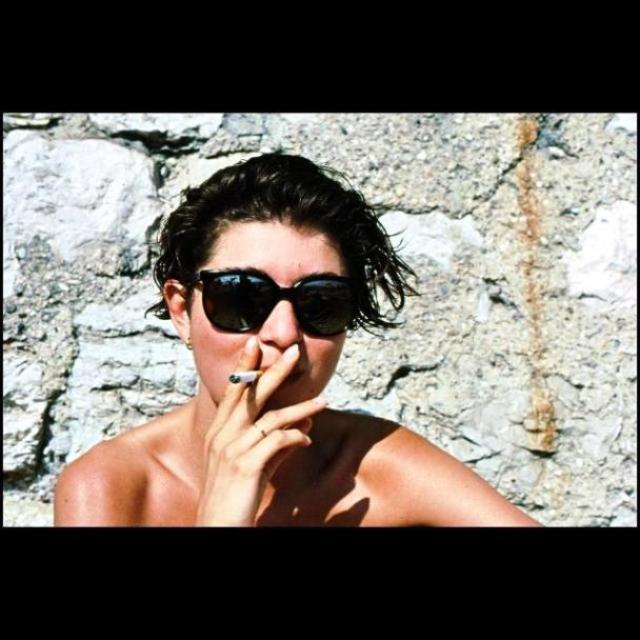rokok: (219, 356, 271, 390)
